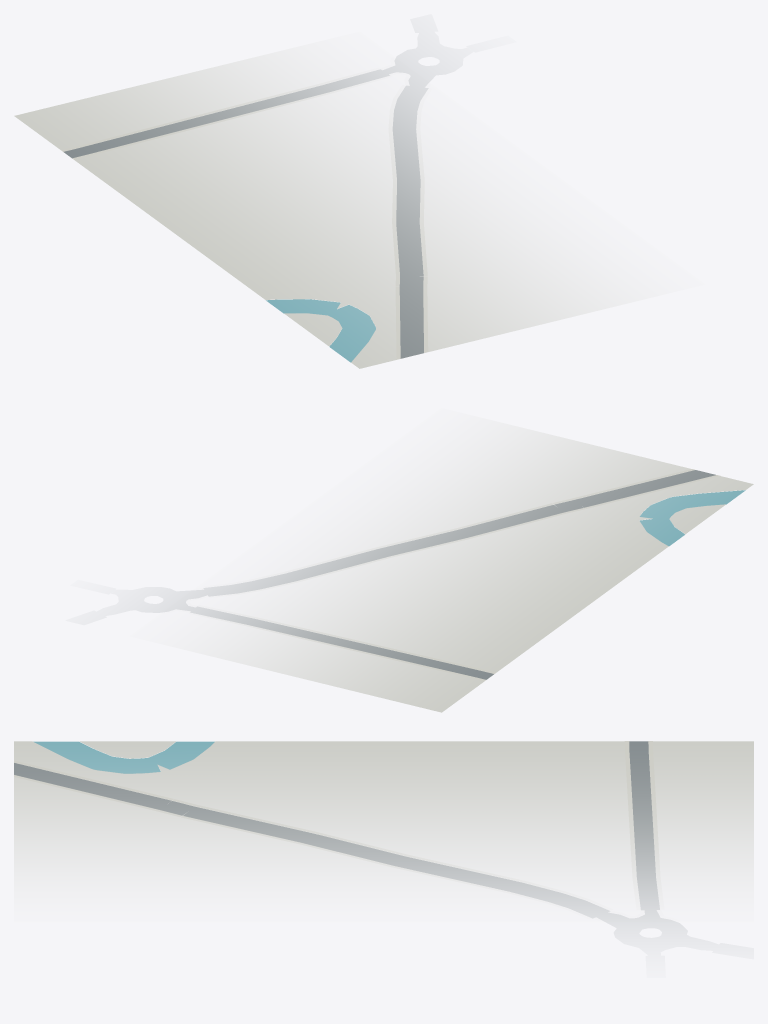
The picture shows the model from 3 angles, top to bottom: view 1: azimuth 30°, elevation 25°; view 2: azimuth 150°, elevation 25°; view 3: azimuth 270°, elevation 25°; orthographic projection. The views are drawn at different scales.
Parts seen in each view (by area): view 1: city; view 2: city; view 3: city.
Boxes of the visible parts, left/top/right/bottom form: city: left=14, top=49, right=633, bottom=368; city: left=141, top=424, right=753, bottom=712; city: left=14, top=741, right=753, bottom=931.
Size of the model in its own units: 429 by 0.4 by 500.
